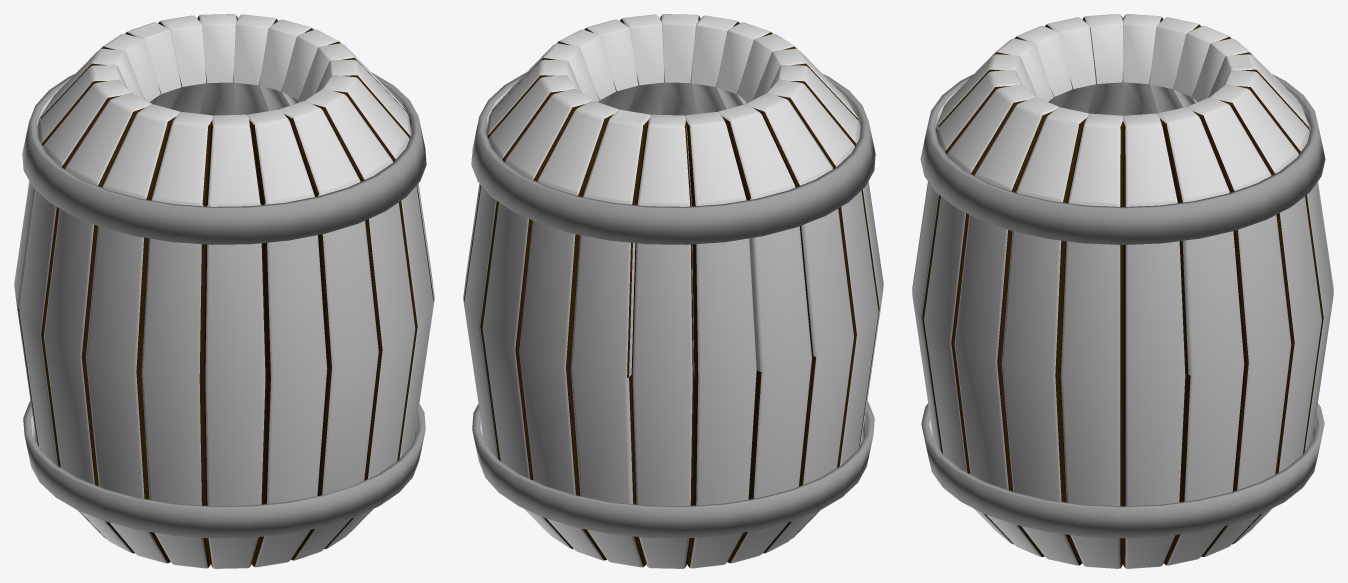
Rendered from WoodBarrel.fbx.
The picture shows the model from 3 angles, left to right: view 1: azimuth 30°, elevation 25°; view 2: azimuth 150°, elevation 25°; view 3: azimuth 270°, elevation 25°; orthographic projection.
Visible parts, largest first — view 1: barrel1; view 2: barrel1; view 3: barrel1.
Boxes of the visible parts, bbox=[...] form: barrel1: bbox=[14, 14, 434, 568]; barrel1: bbox=[463, 14, 883, 568]; barrel1: bbox=[912, 14, 1333, 568].
Bounding box in the file's own units: 66.05 × 76.71 × 66.05.
